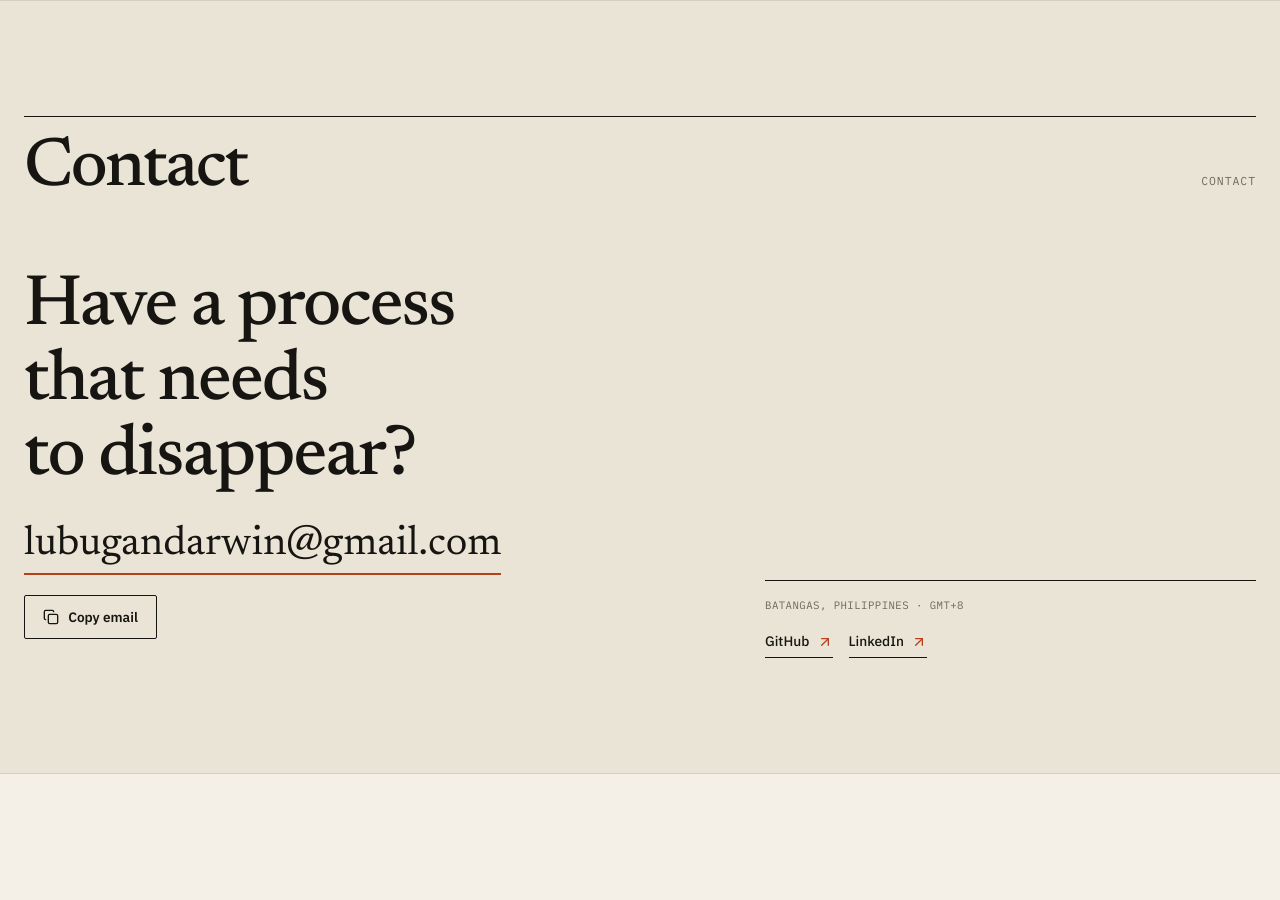
Test: renders real contact paths and copies the email
Expected: the link to "mailto:lubugandarwin@gmail.com" is shown, [24, 520, 501, 575]
Expected: the link to "https://github.com/Darwinie" is shown, [765, 630, 832, 658]
Click the button "Copy email": (91, 617) [24, 595, 157, 639]
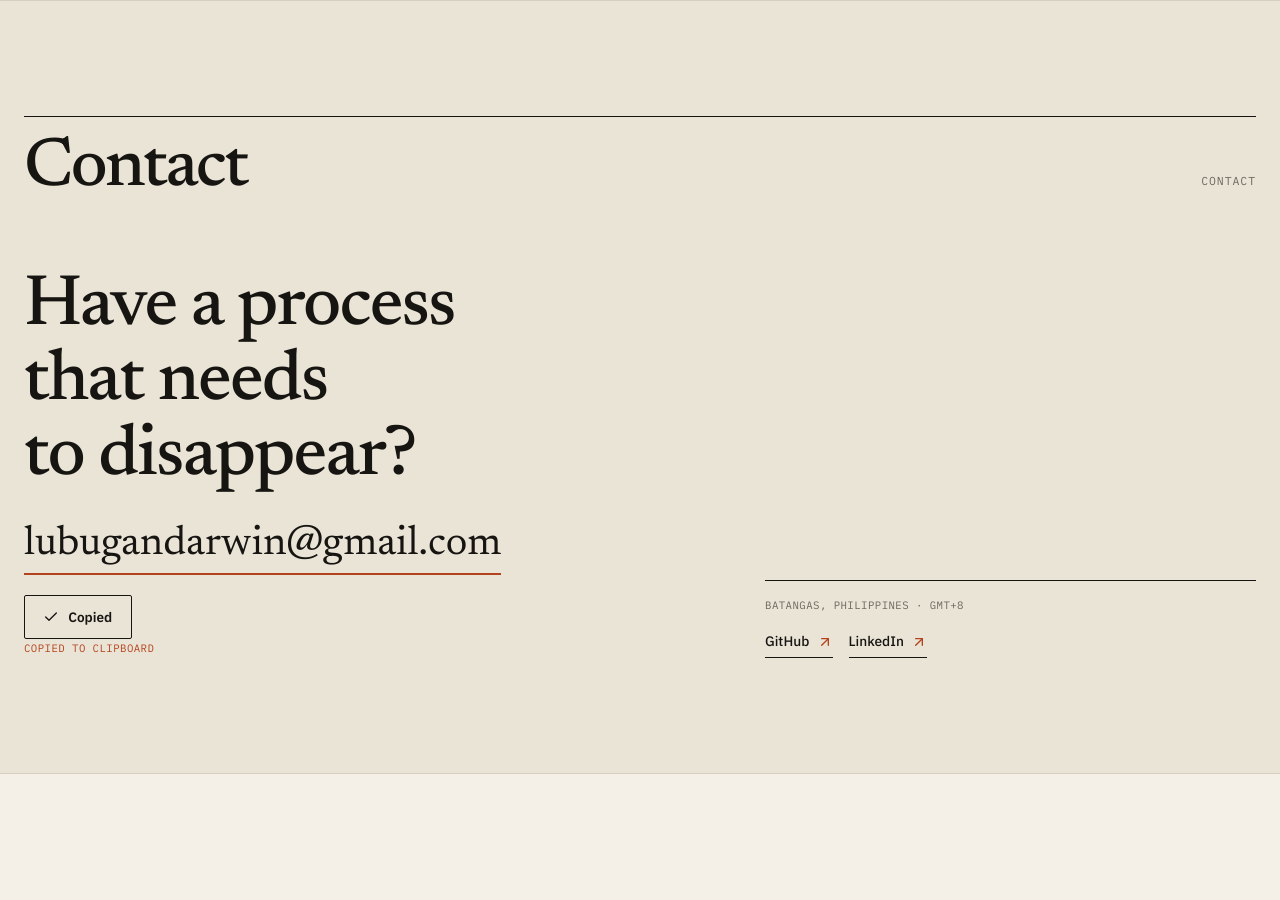
Now the message "Copied to clipboard" is shown, box [24, 641, 154, 655]
